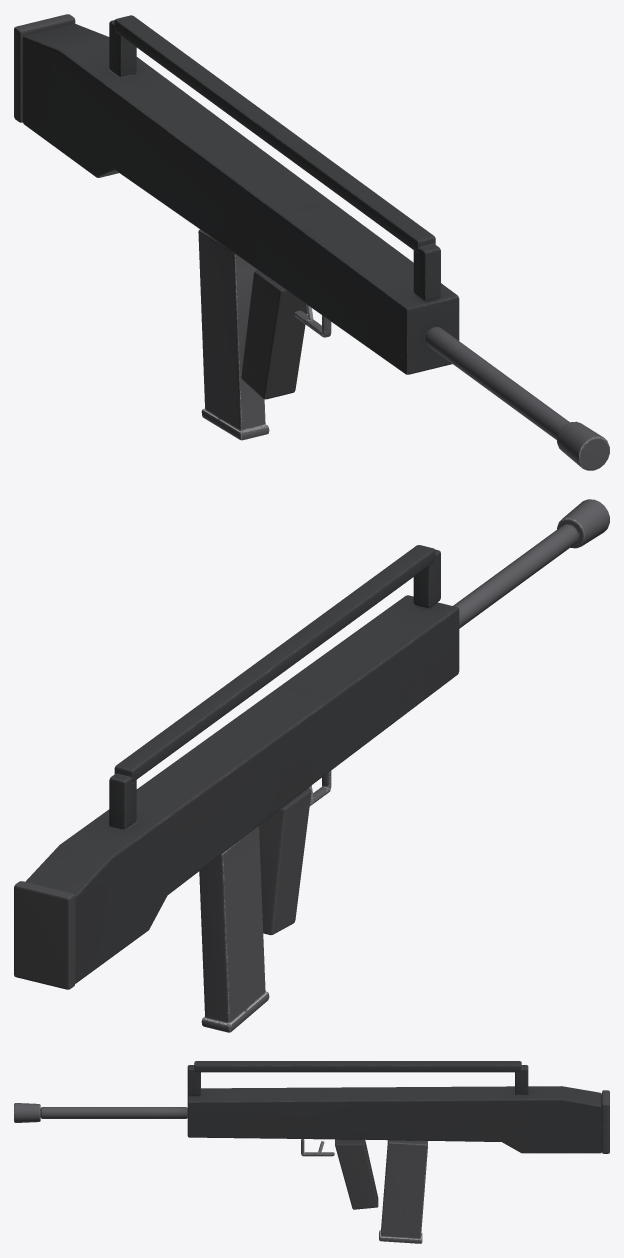
Rendered from famas.fbx.
The picture shows the model from 3 angles, top to bottom: view 1: azimuth 30°, elevation 25°; view 2: azimuth 150°, elevation 25°; view 3: azimuth 270°, elevation 25°; orthographic projection. The views are drawn at different scales.
Parts seen in each view (by area): view 1: famas; view 2: famas; view 3: famas.
Part boxes in pixels (box(x1,y1,x2,y2)): famas: box(14, 14, 609, 470); famas: box(14, 499, 609, 1032); famas: box(14, 1061, 609, 1243).
Size of the model in its own units: 0.0525 by 0.2932 by 0.892.
